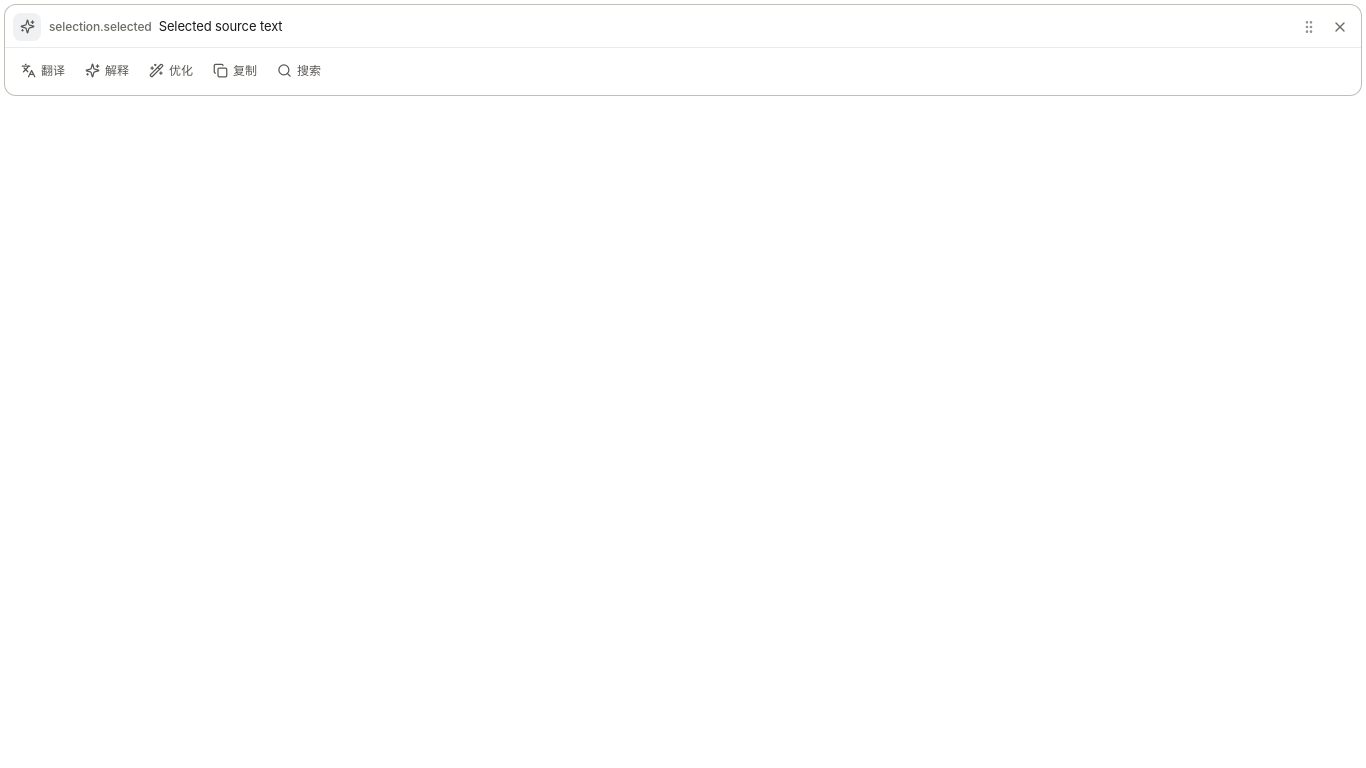
Test: SelectionOverlay streaming › falls back to the final result when stream listener registration stalls
This screenshot has width=1366, height=768.
Check: the button "翻译" is enabled, box x1=12 y1=54 x2=74 y2=88
Click the button "解释" at (107, 70), box x1=76 y1=54 x2=138 y2=88
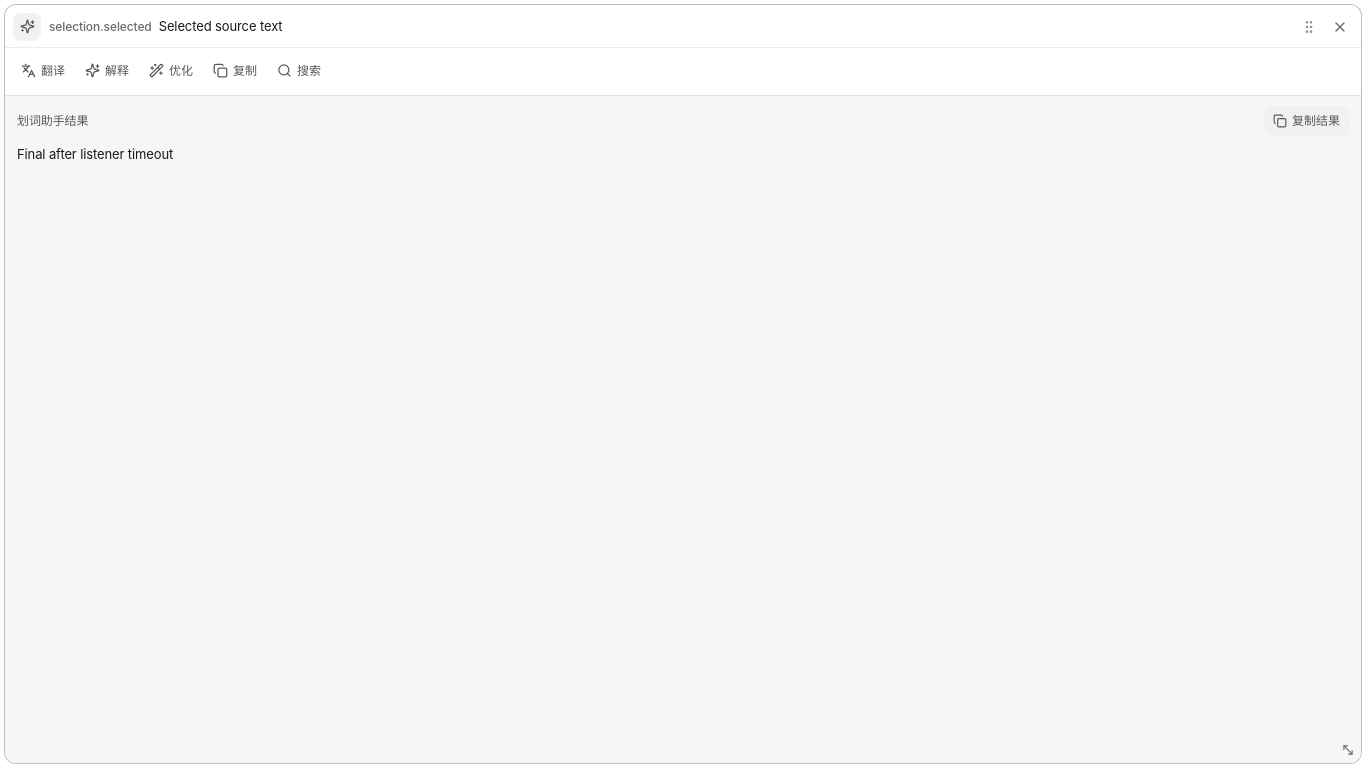
Check: the text "Final after listener timeout" is shown, box x1=17 y1=146 x2=173 y2=162
